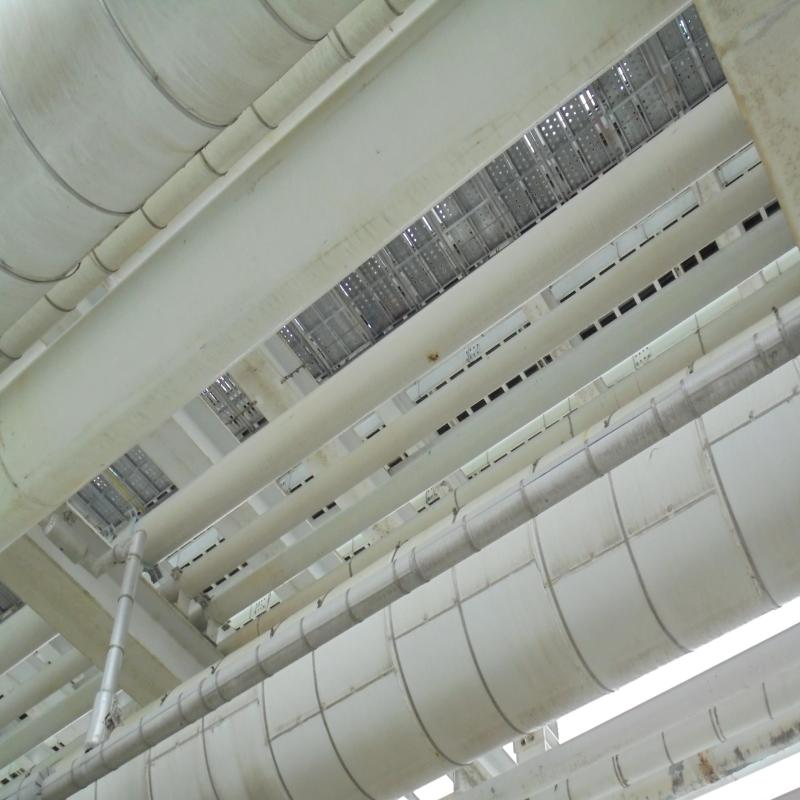corrosion: (429, 344, 441, 364)
